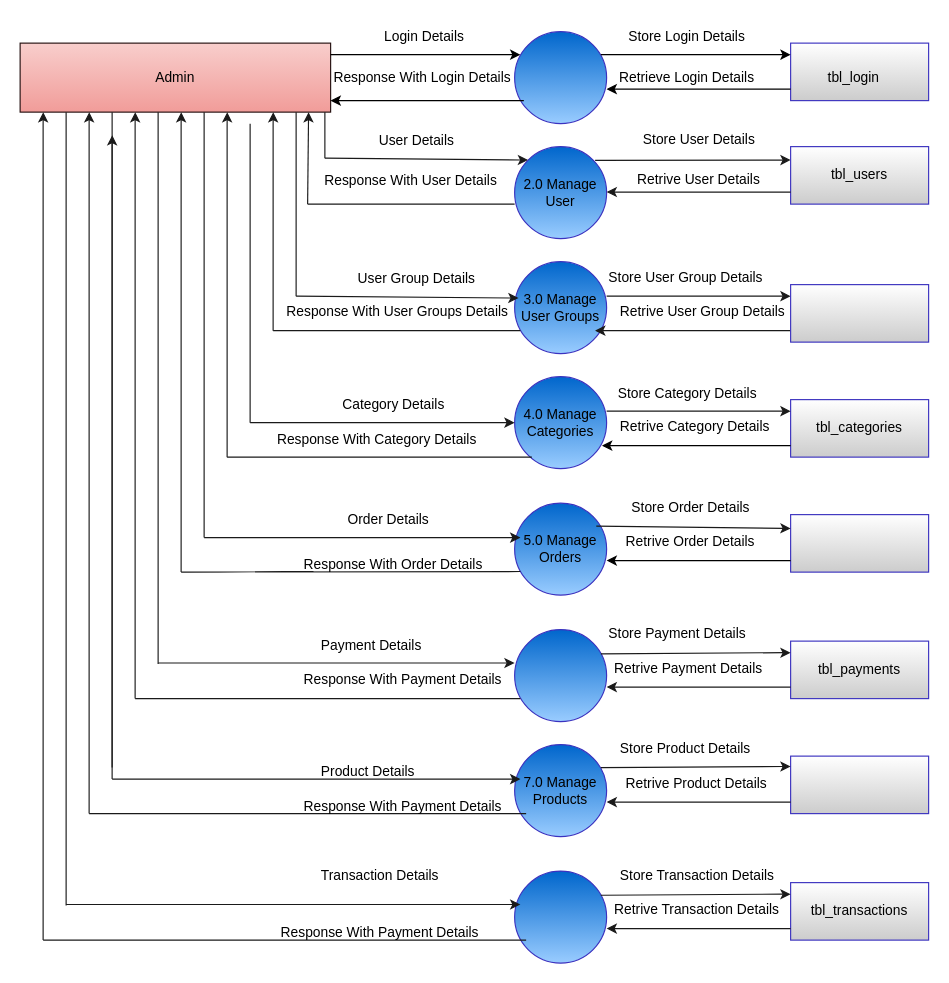
Some shapes in this 949 by 983 pixel diagram are drawn without their labels. The shapes that lost their labels are listed below. From the top down, each one's centre as x and y in pixels, then its label:
[560,77]: 1.0 Login and change password
[859,312]: tbl_user_groups
[859,542]: tbl_orders
[560,675]: 6.0 Payments
[859,784]: tbl_products
[560,916]: 8.0 Manage Transactions
